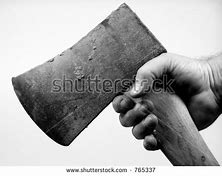axe: (10, 1, 214, 154)
